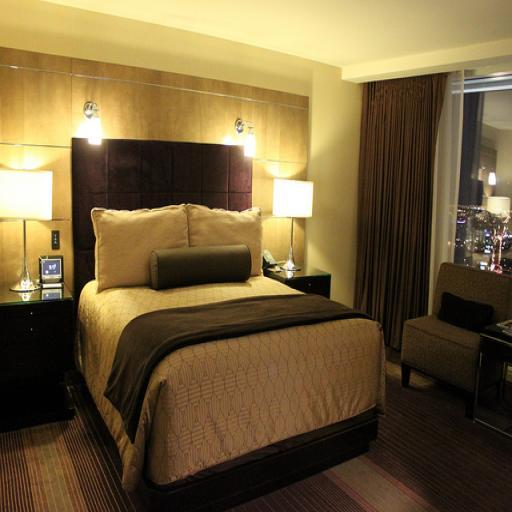bed: (64, 132, 407, 508)
